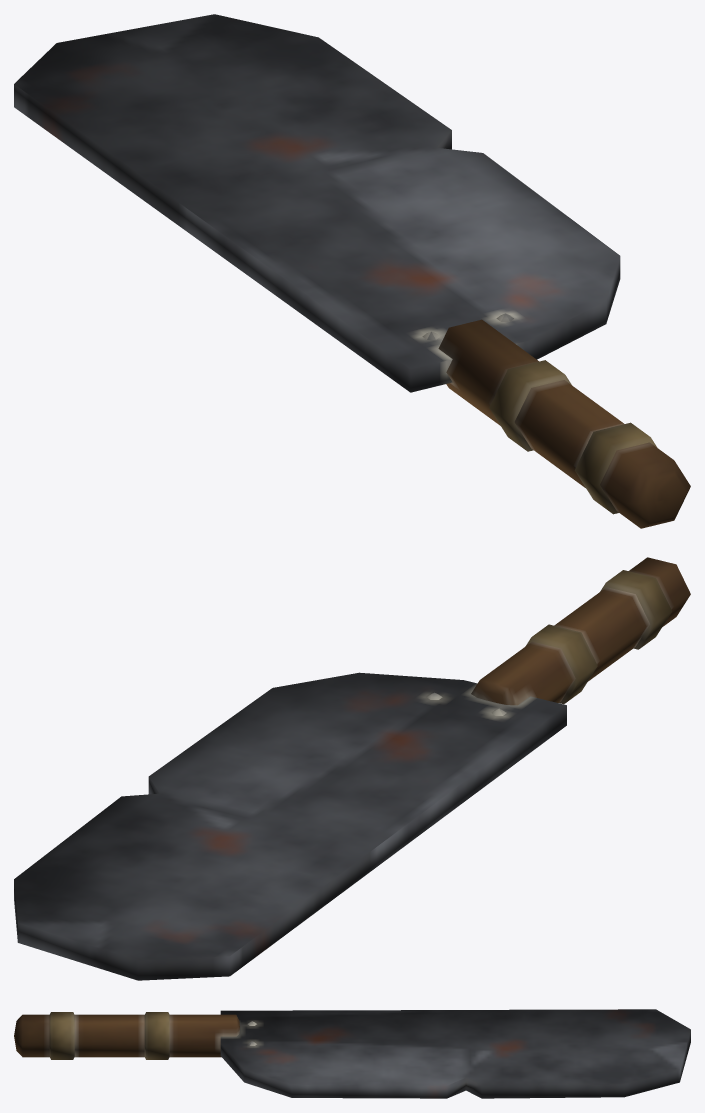
Rendered from Prop_Cleaver.fbx.
The picture shows the model from 3 angles, top to bottom: view 1: azimuth 30°, elevation 25°; view 2: azimuth 150°, elevation 25°; view 3: azimuth 270°, elevation 25°; orthographic projection. The views are drawn at different scales.
Visible parts, largest first — view 1: Prop_Cleaver; view 2: Prop_Cleaver; view 3: Prop_Cleaver.
Boxes of the visible parts, x1,y1,x2,y2 form: Prop_Cleaver: (14, 14, 690, 528); Prop_Cleaver: (14, 557, 690, 980); Prop_Cleaver: (14, 1009, 690, 1098).
Bounding box in the file's own units: 0.114 × 0.0263 × 0.4274.
